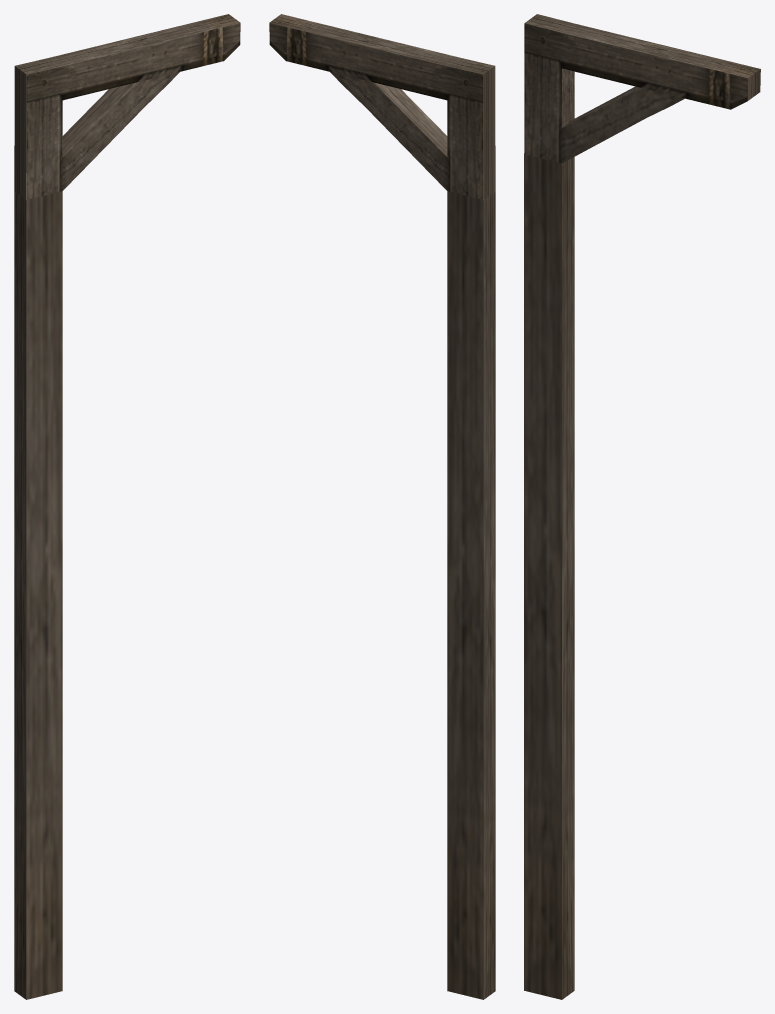
The model's file is WoodenHanger.fbx.
3 renders of one model, left to right at view 1: azimuth 30°, elevation 25°; view 2: azimuth 150°, elevation 25°; view 3: azimuth 330°, elevation 25°, orthographic. The views are drawn at different scales.
Visible parts, largest first — view 1: Plane.004; view 2: Plane.004; view 3: Plane.004.
Boxes of the visible parts, x1,y1,x2,y2 form: Plane.004: (14,14,240,999); Plane.004: (269,14,495,999); Plane.004: (524,14,760,999).
Size of the model in its own units: 76.84 by 317 by 7.48.
1 material, 1 textured.
